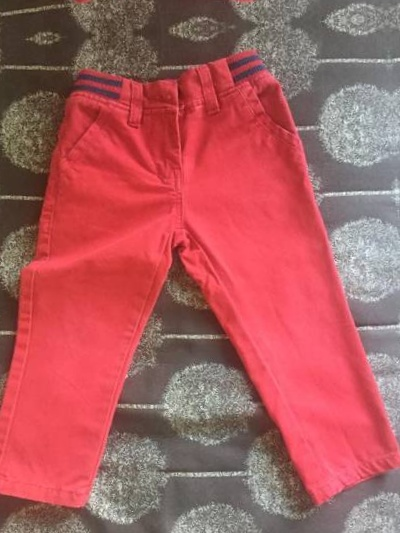Pants: (0, 45, 397, 533), (0, 0, 366, 16)
